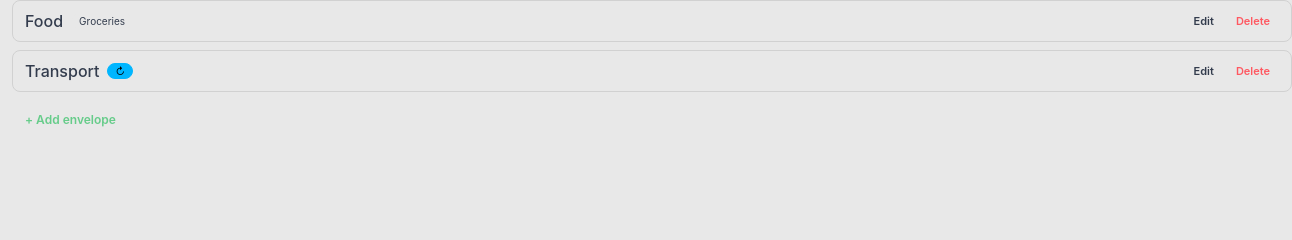
Scenario: EnvelopeManager › opens edit form on Edit click
Click the button "Edit" in the row of "Groceries" at (1204, 21), box x1=1185 y1=9 x2=1223 y2=33
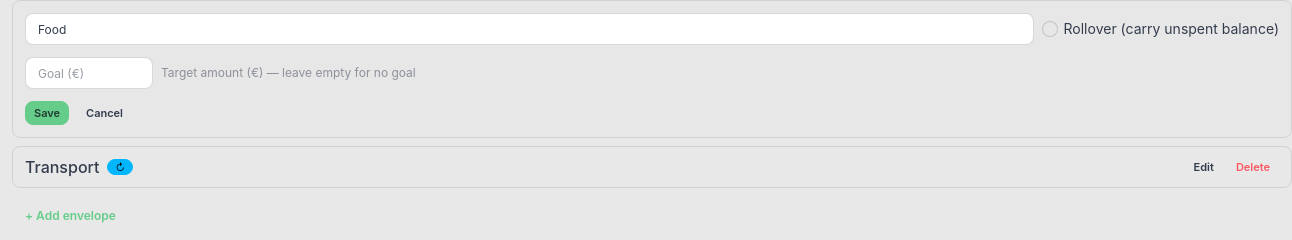
Expected: the field with placeholder "Envelope name" holds "Food", x1=25 y1=13 x2=1034 y2=45
